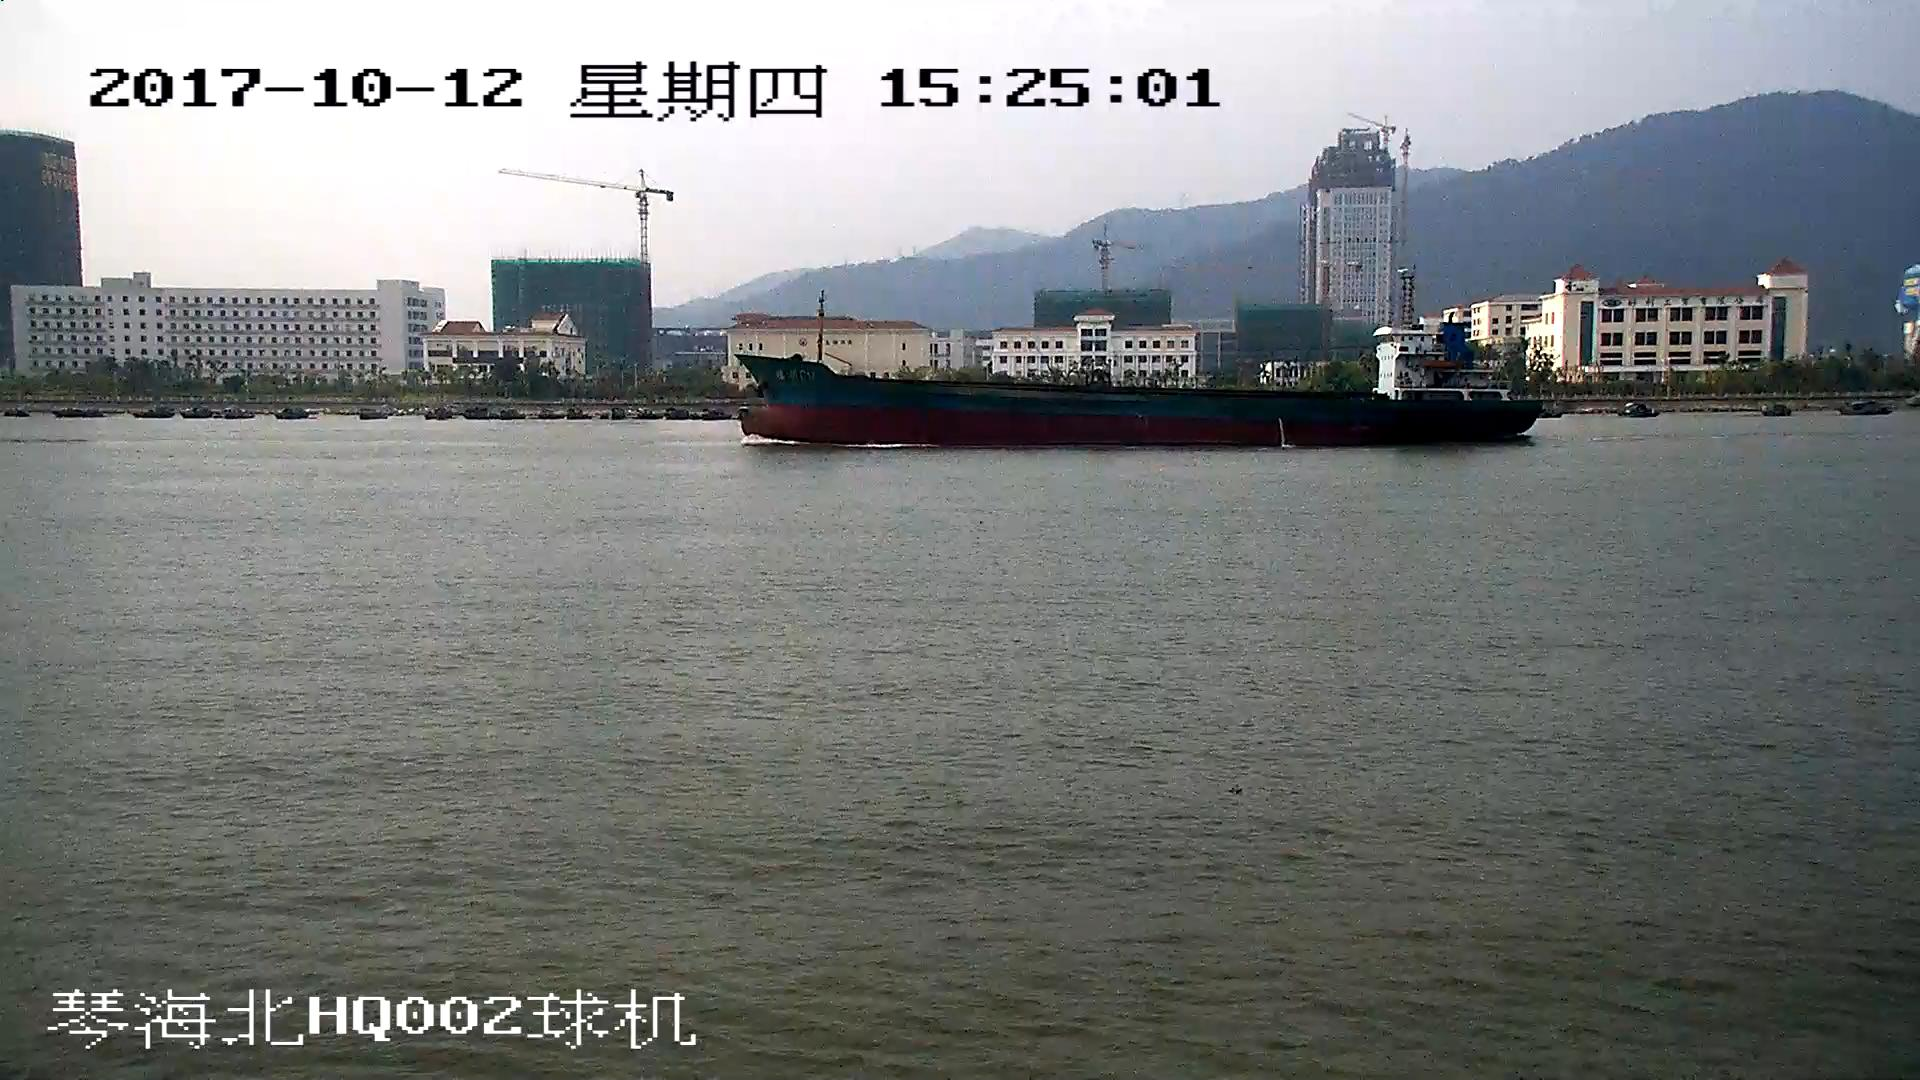general cargo ship: (736, 307, 1536, 447)
